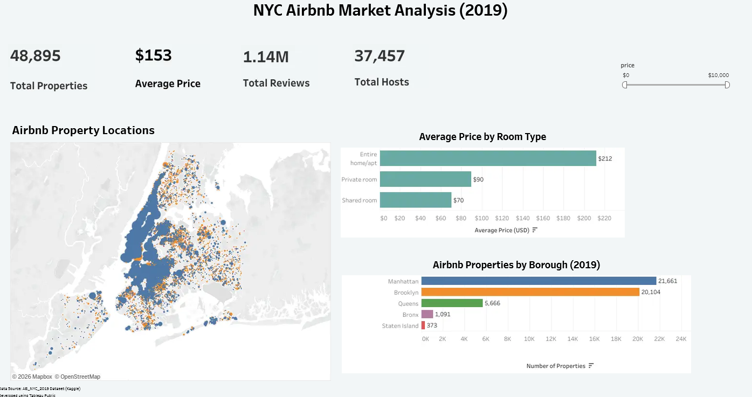

The dashboard page shown, as its layout file describes it:
{"tool":"tableau","page":{"name":"Airbnb Market Analysis Dashboard","canvas":[1600,850],"ordinal":0},"visuals":[{"type":"title","box":[8,8,1584,62]},{"type":"worksheet","title":"KPI - Average Price","mark":"Automatic","box":[288,90,279,145]},{"type":"worksheet","title":"KPI - Total Properties","mark":"Automatic","box":[29,91,283,159]},{"type":"worksheet","title":"KPI - Total Hosts","mark":"Automatic","box":[742,92,200,140]},{"type":"worksheet","title":"KPI - Total Reviews","mark":"Automatic","box":[511,94,226,134]},{"type":"filter","title":"Airbnb Property Locations","param":"[federated.0yhauei00ixn8013c7uzg0oiwi7d].[none:price:qk]","box":[1298,140,228,84]},{"type":"worksheet","title":"Airbnb Property Locations","mark":"Automatic","rows":["latitude"],"cols":["longitude"],"box":[33,261,665,544]},{"type":"legend","title":"Airbnb Property Locations","param":"[federated.0yhauei00ixn8013c7uzg0oiwi7d].[none:room_type:nk]","box":[1364,270,191,90]},{"type":"worksheet","title":"Average Price by Room Type","mark":"Automatic","rows":["room_type"],"cols":["price"],"box":[718,278,663,258]},{"type":"worksheet","title":"Airbnb Accommodations by Neighbourhood Group","mark":"Automatic","rows":["neighbourhood_group"],"cols":["id"],"box":[720,543,724,260]},{"type":"text","box":[9,812,320,27]}]}

Visuals, with their boxes in screenshot pixels (x1, y1, x2, y2), scaled from the page's 1600x850 canvas onto the 752x397 screenshot:
title: pyautogui.locateOnScreen(4, 4, 748, 33)
"KPI - Average Price" worksheet: pyautogui.locateOnScreen(135, 42, 266, 110)
"KPI - Total Properties" worksheet: pyautogui.locateOnScreen(14, 43, 147, 117)
"KPI - Total Hosts" worksheet: pyautogui.locateOnScreen(349, 43, 443, 108)
"KPI - Total Reviews" worksheet: pyautogui.locateOnScreen(240, 44, 346, 106)
"Airbnb Property Locations" filter: pyautogui.locateOnScreen(610, 65, 717, 105)
"Airbnb Property Locations" worksheet: pyautogui.locateOnScreen(16, 122, 328, 376)
"Airbnb Property Locations" legend: pyautogui.locateOnScreen(641, 126, 731, 168)
"Average Price by Room Type" worksheet: pyautogui.locateOnScreen(337, 130, 649, 250)
"Airbnb Accommodations by Neighbourhood Group" worksheet: pyautogui.locateOnScreen(338, 254, 679, 375)
text: pyautogui.locateOnScreen(4, 379, 155, 392)
